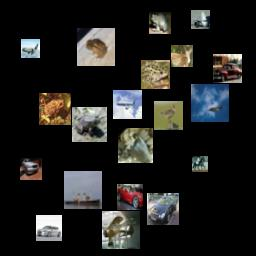airplane: (191, 84, 229, 122), (102, 211, 140, 249), (113, 90, 142, 119), (191, 10, 210, 29), (21, 39, 40, 58)
automobile: (147, 193, 179, 225), (213, 54, 242, 83), (117, 184, 143, 210), (36, 215, 62, 241), (20, 158, 42, 180)
bird: (118, 128, 153, 163), (154, 101, 183, 130)
deer: (171, 45, 193, 67)
frog: (77, 28, 115, 66), (72, 107, 107, 142), (39, 93, 71, 125), (141, 60, 170, 89), (149, 12, 171, 34)
ship: (64, 171, 102, 209)
